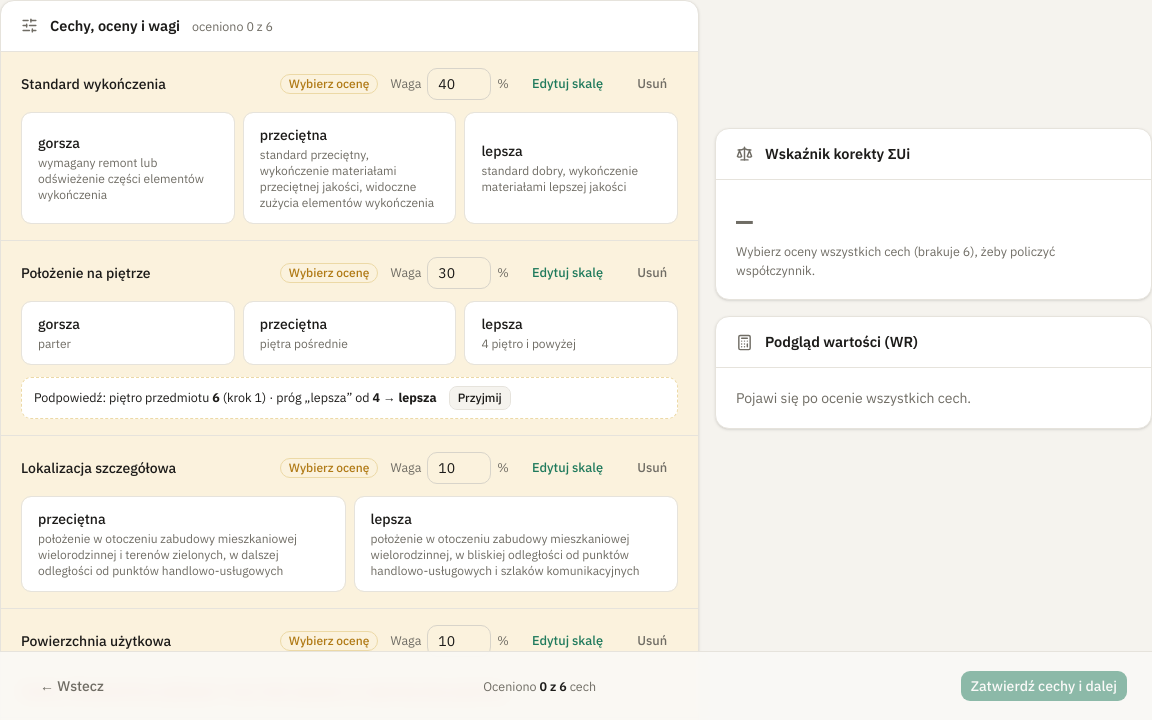
Test: StepFeatures — progi liczbowe i podpowiedź (FH.1, FH.2) › ręczna edycja tekstu definicji odłącza progi — pola progów zostają, ale PUSTE, a podpowiedź znika (FH.1, makieta 8)
Click the button "Edytuj skalę" in the row of "Położenie na piętrze". click: (568, 273)
box: x1=521 y1=259 x2=614 y2=287
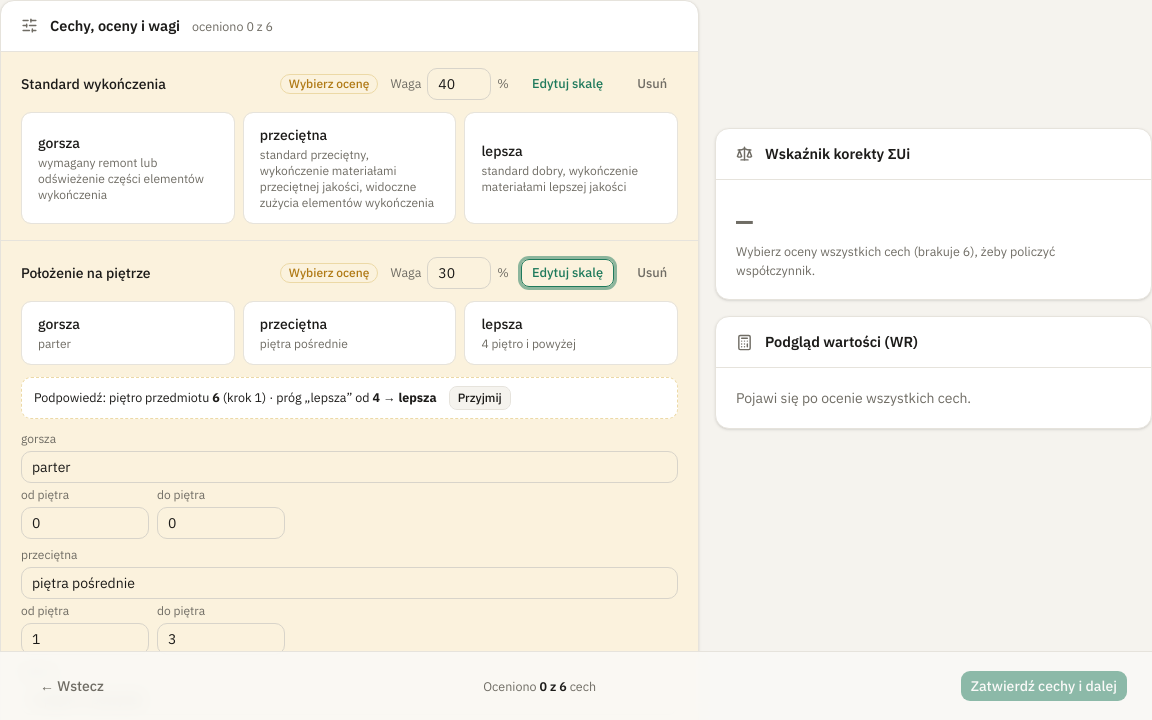
Check: the element with test id "threshold-hint-polozenie-na-pietrze" is shown, box x1=21 y1=377 x2=678 y2=419
Type " i suterena" into the field with test id "feature-def-polozenie-na-pietrze-gorsza". click: (350, 467)
box: x1=21 y1=451 x2=678 y2=483
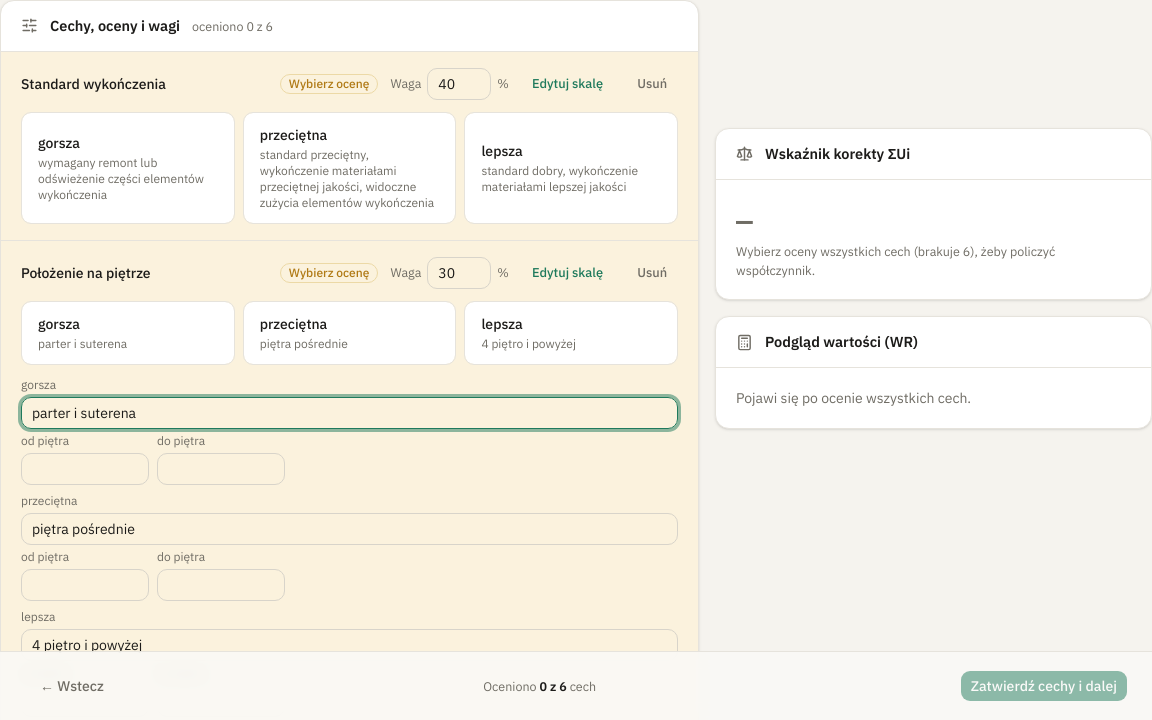
Check: the element with test id "threshold-hint-polozenie-na-pietrze" is gone
